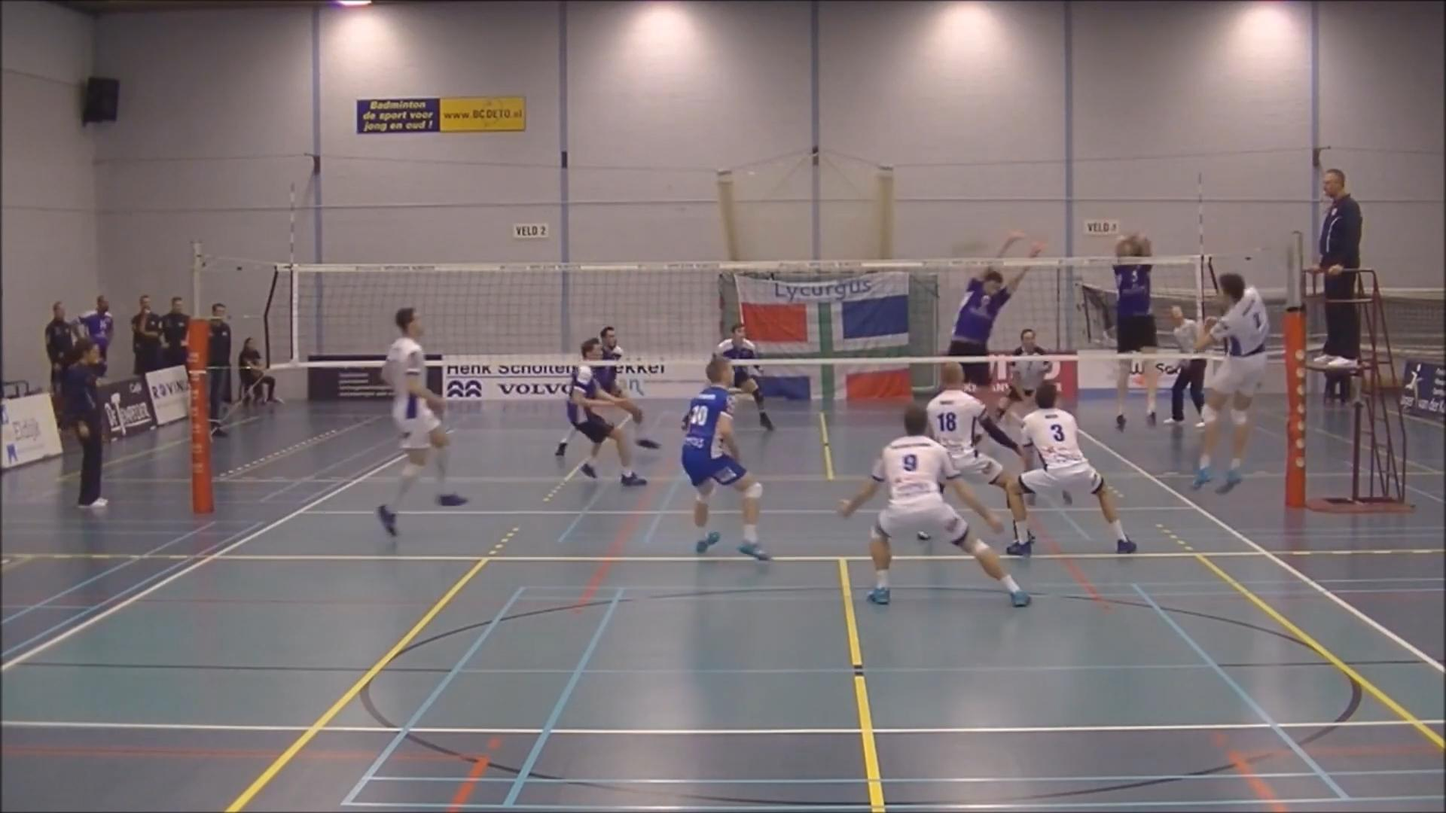attacco: (1179, 270, 1289, 500)
muro: (930, 230, 1050, 393), (1106, 223, 1163, 442)
